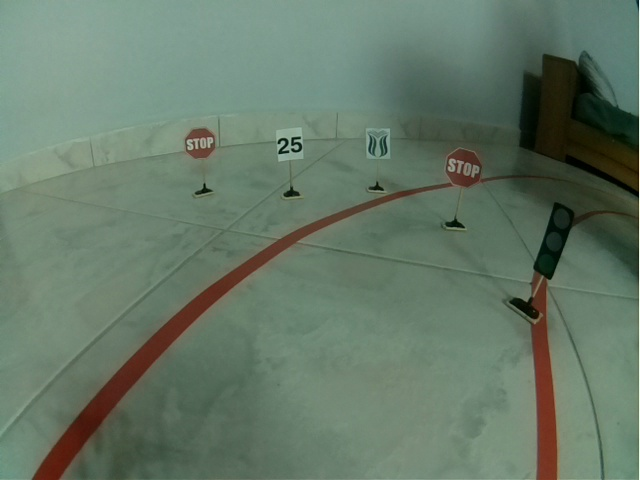Green Traffic Light: (533, 201, 575, 281)
Speed Limit 25: (275, 127, 305, 162)
Stop: (444, 147, 483, 190), (184, 127, 216, 159)
Subu: (365, 128, 392, 161)
